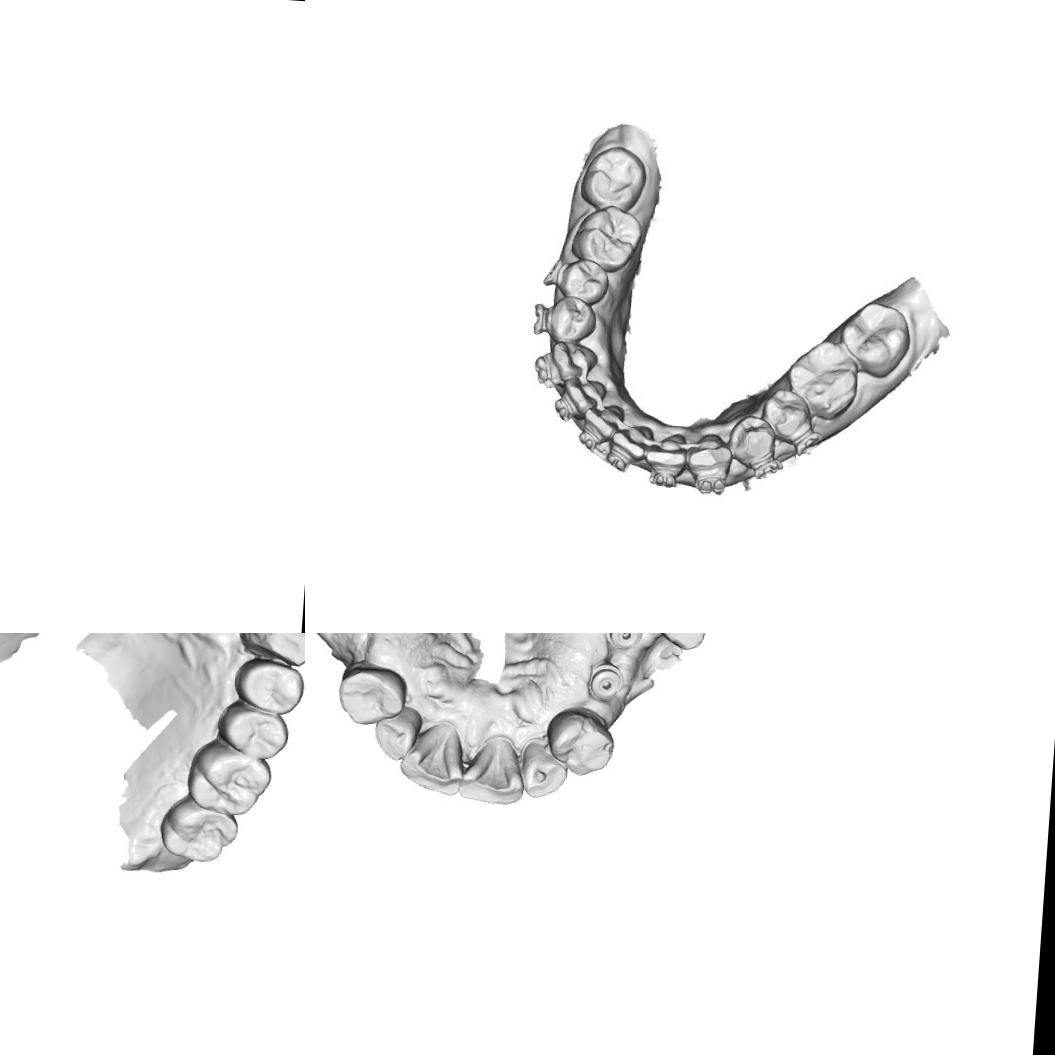canine: (552, 340, 598, 384), (688, 431, 729, 477), (251, 633, 305, 667)
implant: (584, 658, 625, 702), (603, 633, 645, 651)
incisor: (397, 719, 468, 797), (456, 732, 528, 807), (370, 704, 427, 764), (517, 736, 570, 800), (562, 375, 604, 415), (648, 432, 684, 472), (614, 424, 652, 459), (584, 408, 625, 438)
molar: (186, 740, 274, 816), (158, 796, 240, 868), (787, 341, 857, 412), (844, 301, 908, 370), (584, 146, 645, 212), (576, 202, 641, 261), (618, 633, 713, 652)
premolar: (542, 706, 617, 778), (334, 662, 409, 728), (231, 656, 305, 718), (220, 702, 293, 763), (764, 389, 810, 436), (732, 417, 780, 460), (552, 299, 602, 340), (560, 263, 606, 300)
